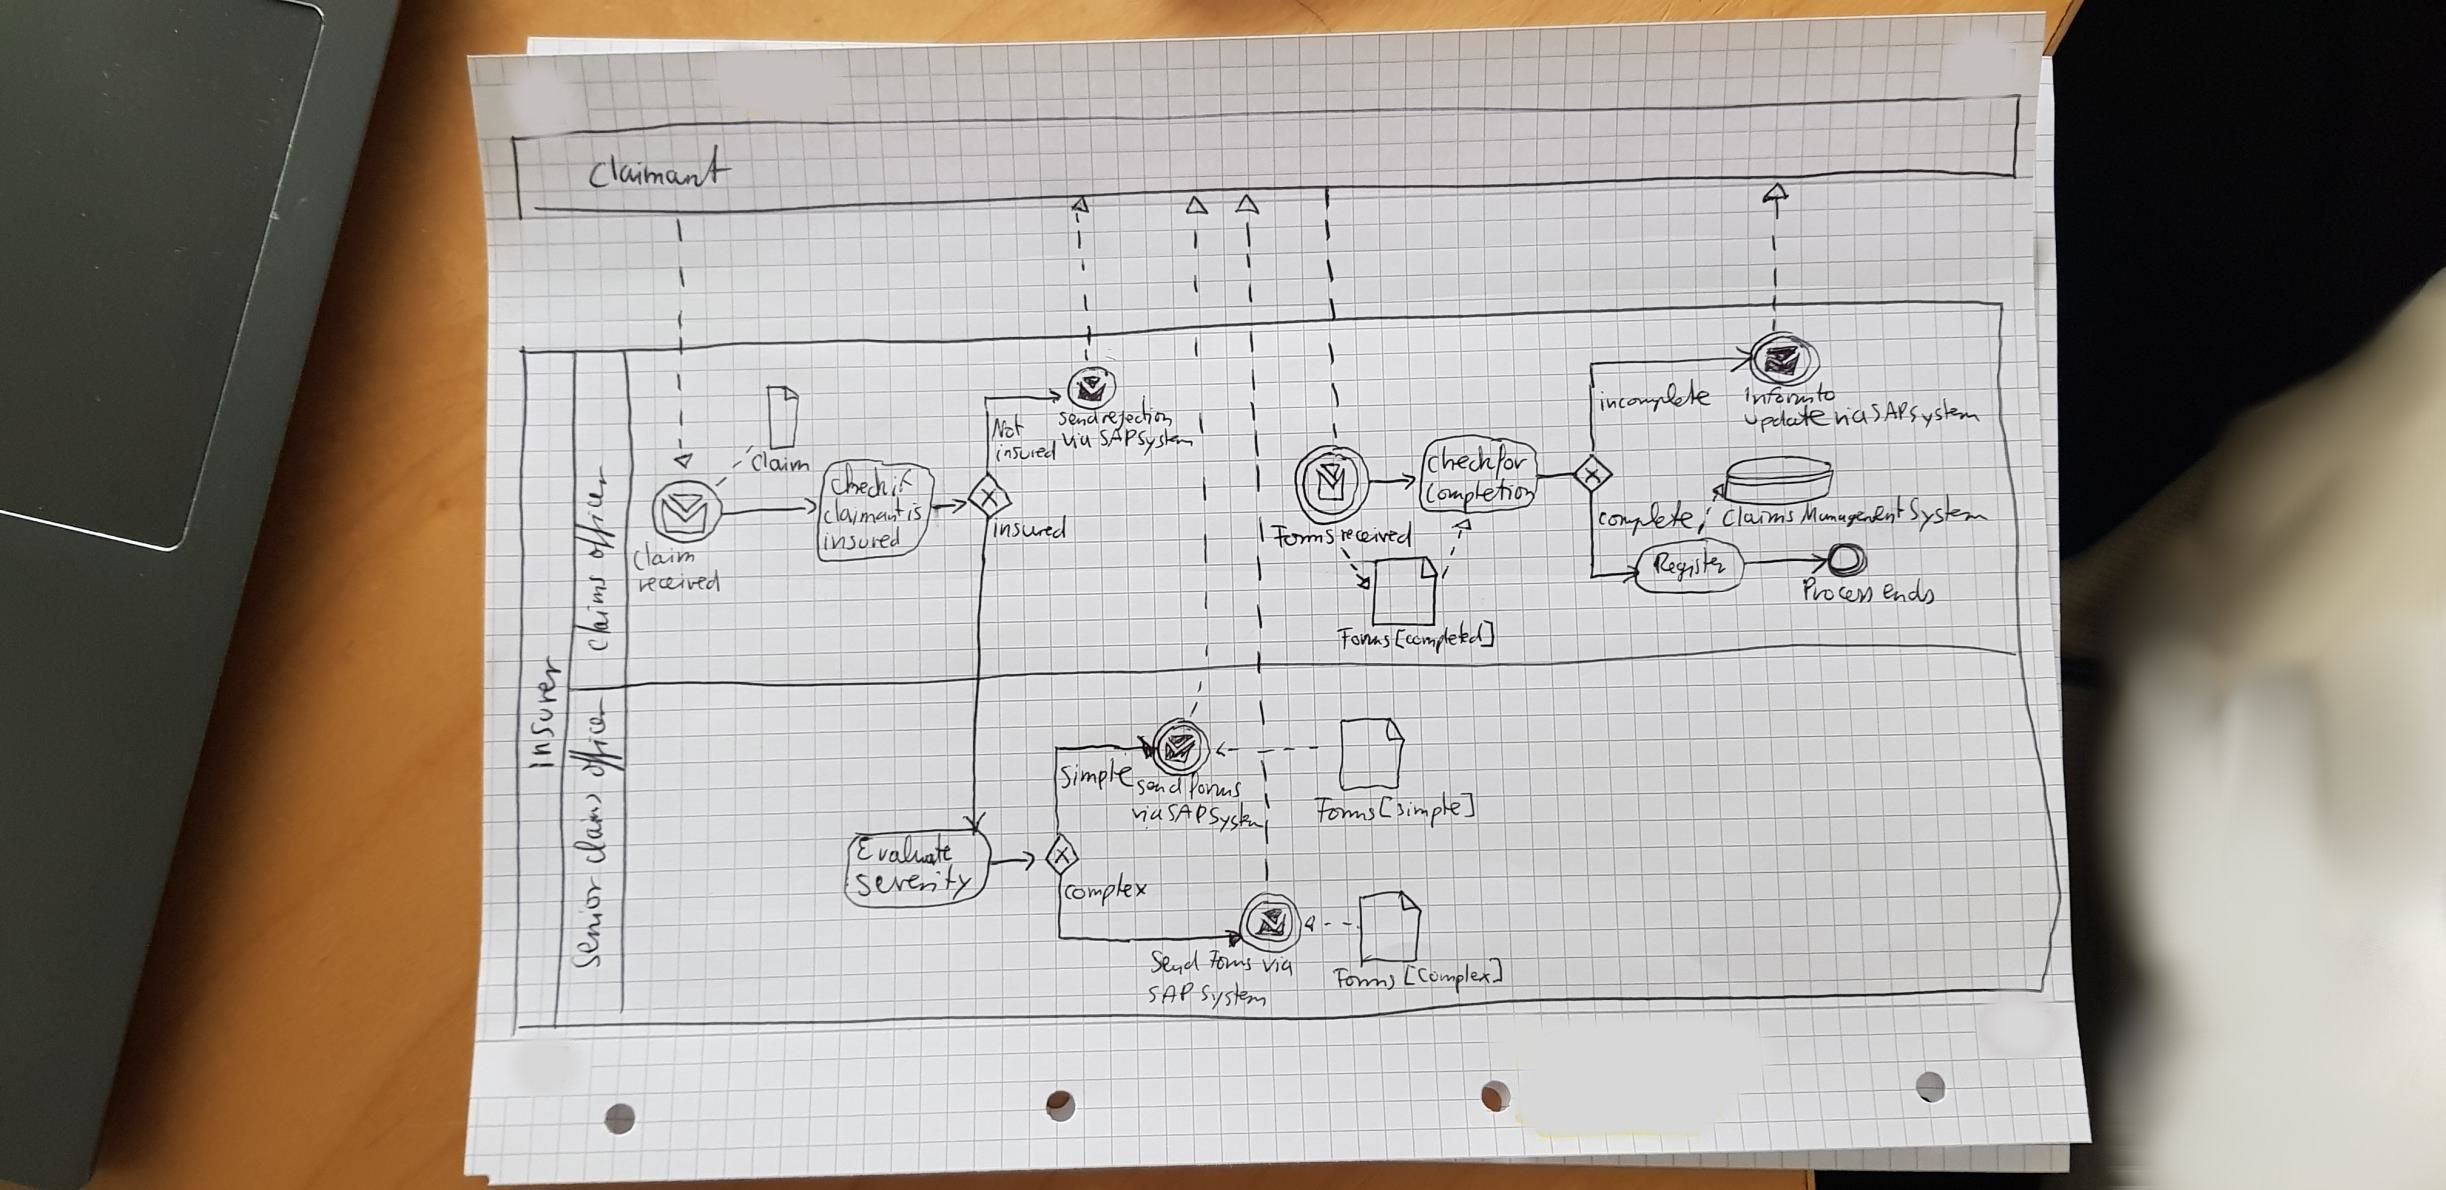Claim: (746, 451, 810, 476)
Completion: (1421, 480, 1535, 504)
Evaluate: (852, 834, 955, 869)
Forms: (1310, 794, 1373, 830), (1328, 962, 1398, 989), (1334, 625, 1385, 655), (1200, 950, 1256, 976), (1271, 522, 1331, 547)
Management: (1803, 501, 1900, 529)
Not: (992, 416, 1026, 438)
Process: (1799, 576, 1873, 607)
Register: (1647, 549, 1727, 582)
SAP: (1143, 979, 1190, 1009), (1867, 398, 1909, 429), (1165, 802, 1211, 827), (1095, 429, 1139, 448)
Send: (1147, 948, 1198, 976)
Senior: (569, 875, 610, 972)
Simple: (1055, 763, 1136, 788)
System: (1903, 501, 1990, 529), (1192, 983, 1265, 1012), (1909, 399, 1980, 429), (1207, 803, 1267, 834), (1139, 430, 1196, 455)
Update: (1742, 406, 1827, 435)
[Complex]: (1401, 961, 1504, 983)
[completed]: (1398, 621, 1498, 653)
[simple]: (1377, 792, 1480, 820)
check: (1427, 448, 1491, 476)
checkif: (825, 465, 914, 498)
claim: (627, 544, 697, 571)
claimant: (587, 150, 730, 192), (824, 498, 895, 527)
claims: (571, 568, 618, 652), (569, 784, 615, 869), (1718, 502, 1796, 526)
complete: (1594, 504, 1694, 529)
complex: (1058, 873, 1147, 908)
ends: (1877, 577, 1934, 607)
for: (1488, 448, 1529, 476)
forms: (1184, 777, 1242, 802)
incomplete: (1590, 381, 1711, 418)
inform: (1739, 384, 1814, 409)
insured: (989, 515, 1067, 543), (819, 529, 902, 554), (991, 443, 1061, 463)
insurer: (523, 658, 565, 777)
is: (895, 498, 928, 526)
officer: (573, 468, 616, 561), (569, 700, 616, 778)
received: (632, 571, 722, 597), (1334, 522, 1413, 544)
rejection: (1100, 396, 1173, 430)
send: (1133, 777, 1182, 799), (1061, 407, 1100, 427)
severity: (852, 867, 975, 897)
to: (1814, 384, 1841, 402)
via: (1828, 401, 1867, 430), (1257, 953, 1295, 979), (1059, 430, 1094, 452), (1129, 802, 1156, 830)
